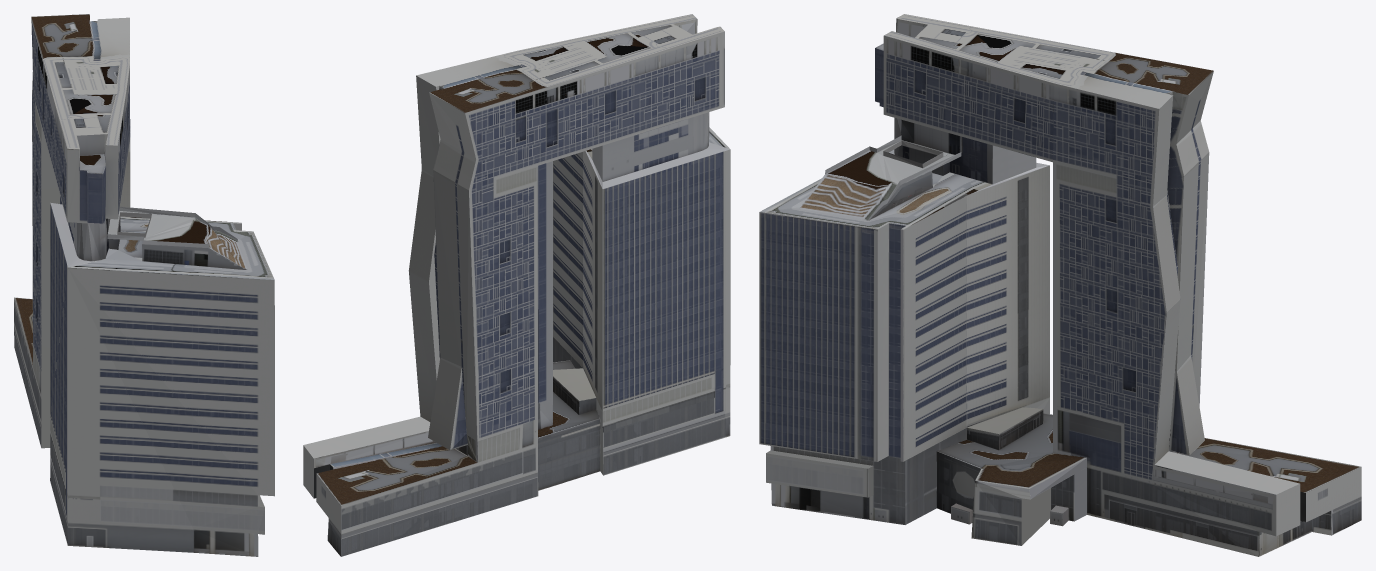
File: 410_PLACEDDDD.glb
3 renders of one model, left to right at view 1: azimuth 30°, elevation 25°; view 2: azimuth 150°, elevation 25°; view 3: azimuth 270°, elevation 25°, orthographic. The views are drawn at different scales.
Visible parts, largest first — view 1: Plane.001; view 2: Plane.001; view 3: Plane.001.
Boxes of the visible parts, x1,y1,x2,y2 form: Plane.001: (14, 14, 274, 556); Plane.001: (303, 14, 730, 556); Plane.001: (759, 14, 1361, 556).
Bounding box in the file's own units: 62.69 × 99.07 × 128.
Materials: 1 (1 with a texture image).
